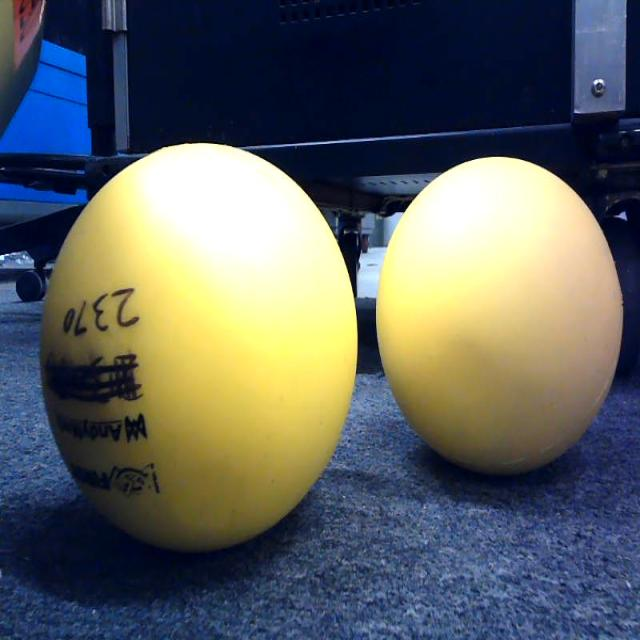Fuel: (38, 140, 358, 556), (375, 154, 625, 480)
